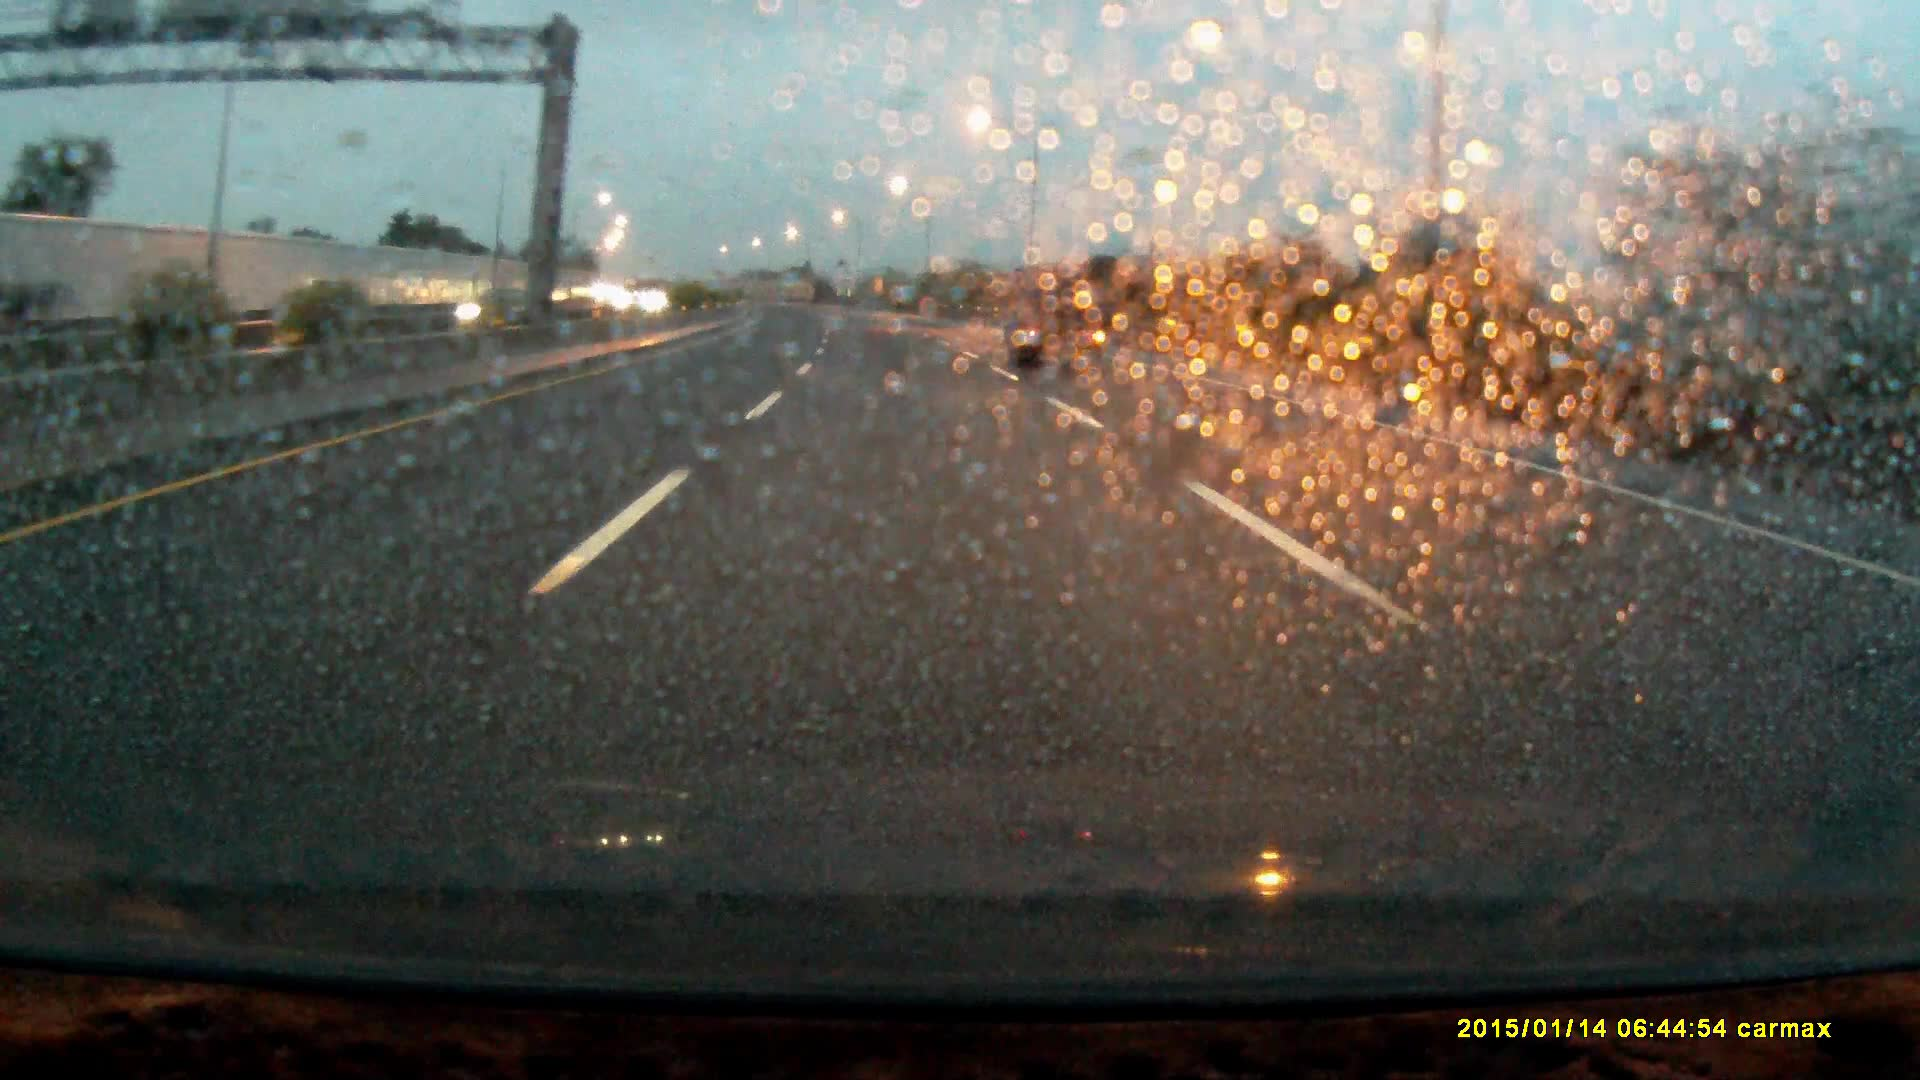vehicle: (1010, 276, 1102, 369)
